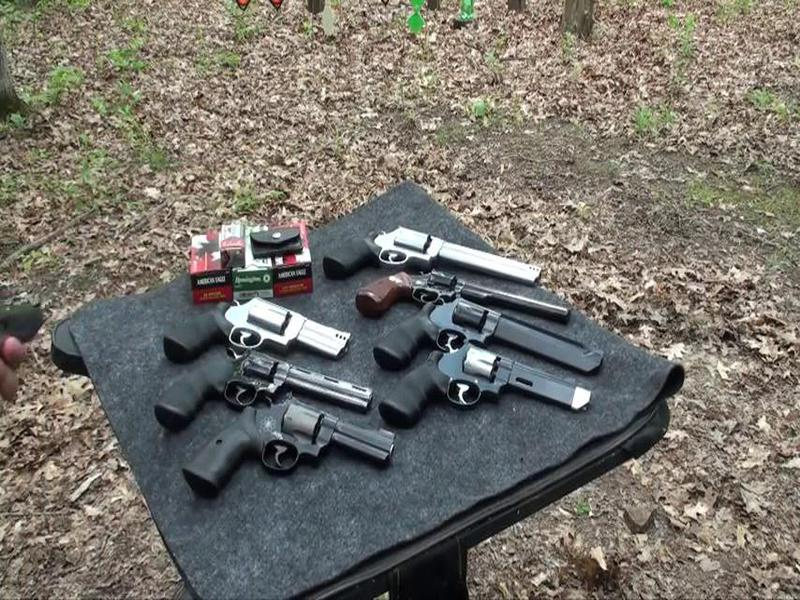Revolver: (148, 289, 361, 374)
